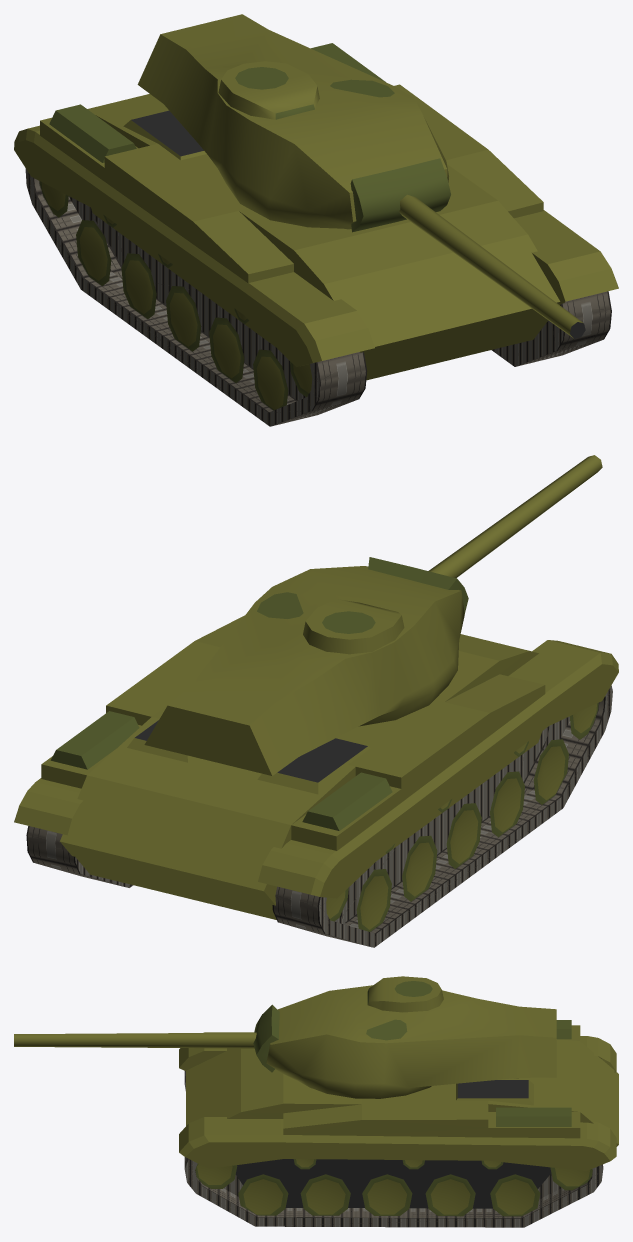
Rendered from light.glb.
3 renders of one model, top to bottom at view 1: azimuth 30°, elevation 25°; view 2: azimuth 150°, elevation 25°; view 3: azimuth 270°, elevation 25°, orthographic. The views are drawn at different scales.
Visible parts, largest first — view 1: Hull, Turret, Track_R, Barrel, Track_L; view 2: Hull, Turret, Track_R, Barrel, Track_L; view 3: Hull, Turret, Track_L, Barrel.
Boxes of the visible parts, x1,y1,x2,y2 form: Hull: (14, 43, 618, 410); Turret: (137, 14, 448, 229); Track_R: (25, 168, 367, 426); Barrel: (350, 158, 585, 338); Track_L: (491, 291, 611, 366); Hull: (14, 615, 618, 931); Turret: (144, 566, 464, 775); Track_R: (272, 685, 612, 947); Barrel: (368, 455, 602, 613); Track_L: (26, 826, 133, 887); Hull: (179, 1020, 618, 1216); Turret: (266, 976, 556, 1098); Track_L: (184, 1157, 603, 1227); Barrel: (14, 1004, 279, 1072).
Size of the model in its own units: 3.31 by 2.52 by 7.97.
4 materials, 1 textured.
